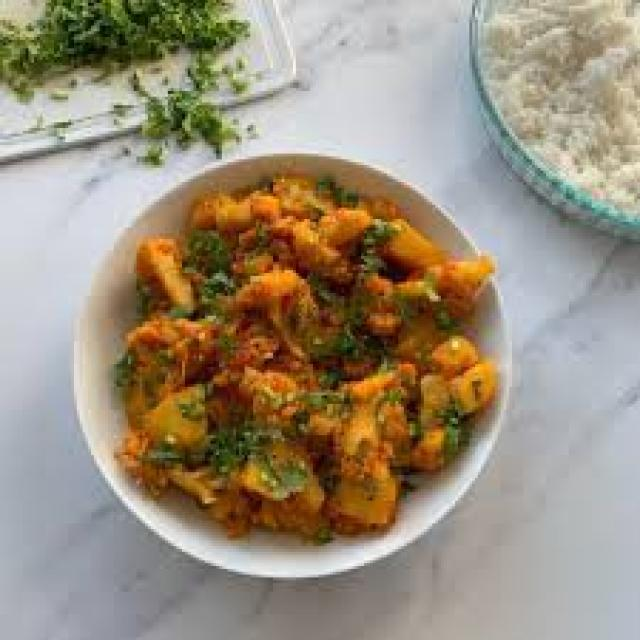Aloo Gobi: (140, 193, 460, 536)
